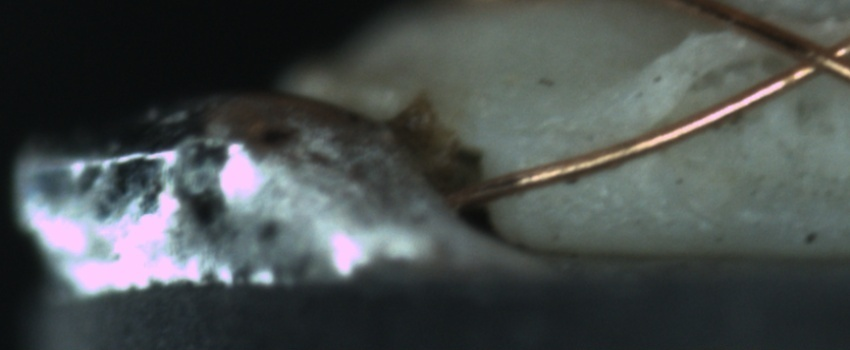CL: (759, 19, 849, 93)
